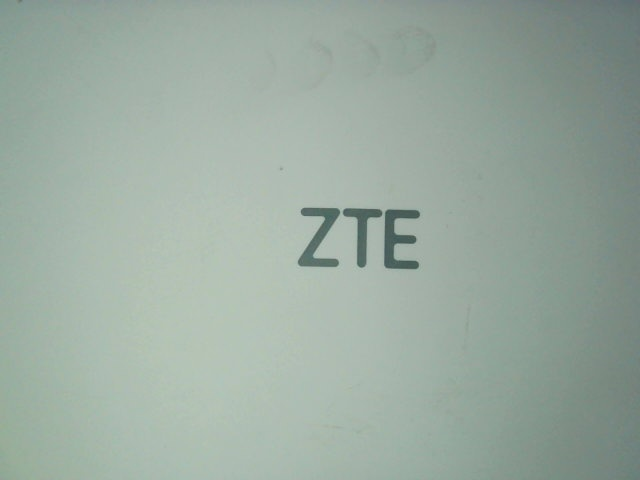AN_ZTE: (291, 191, 440, 280)
